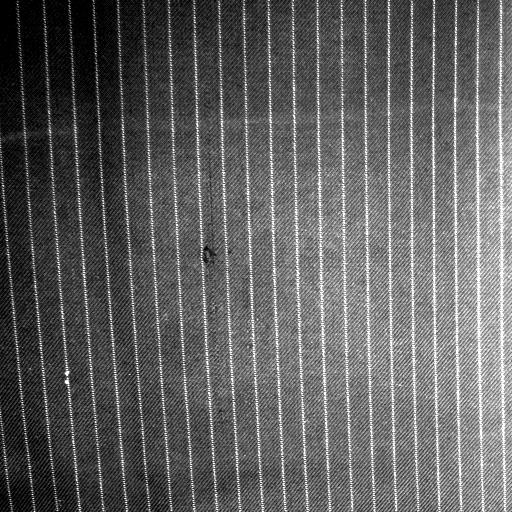fabric_hole: (196, 234, 226, 276), (195, 238, 221, 274)
